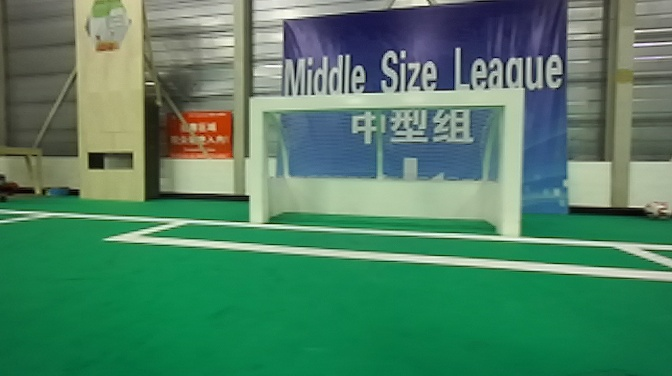ball: (644, 190, 669, 219)
goalpost: (246, 82, 276, 233), (498, 82, 524, 241)
